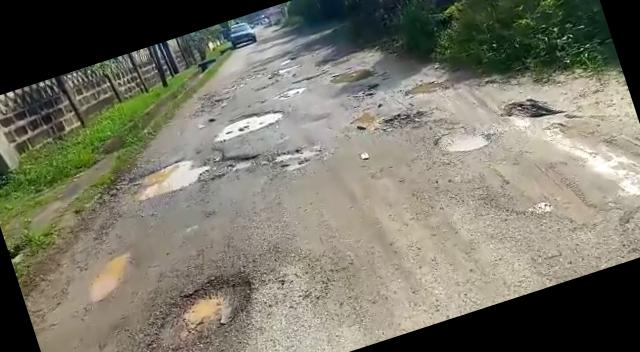pothole: (162, 266, 270, 348), (122, 142, 238, 205), (208, 101, 288, 143), (432, 118, 496, 162), (265, 140, 324, 179), (273, 82, 308, 100)
